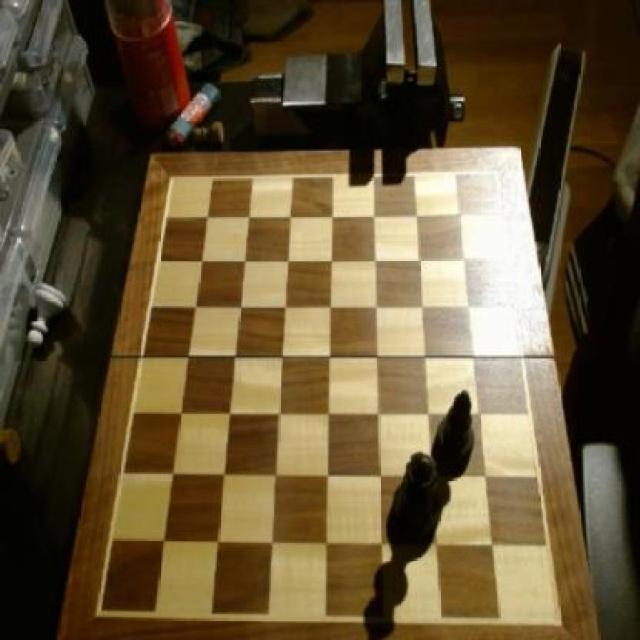bishop: (434, 388, 475, 476)
black-pawn: (394, 451, 443, 555)
